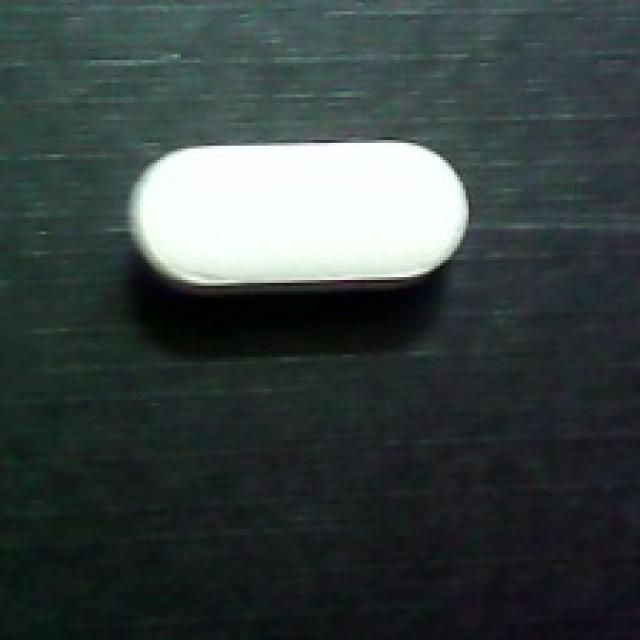no-defect: (126, 134, 471, 303)
